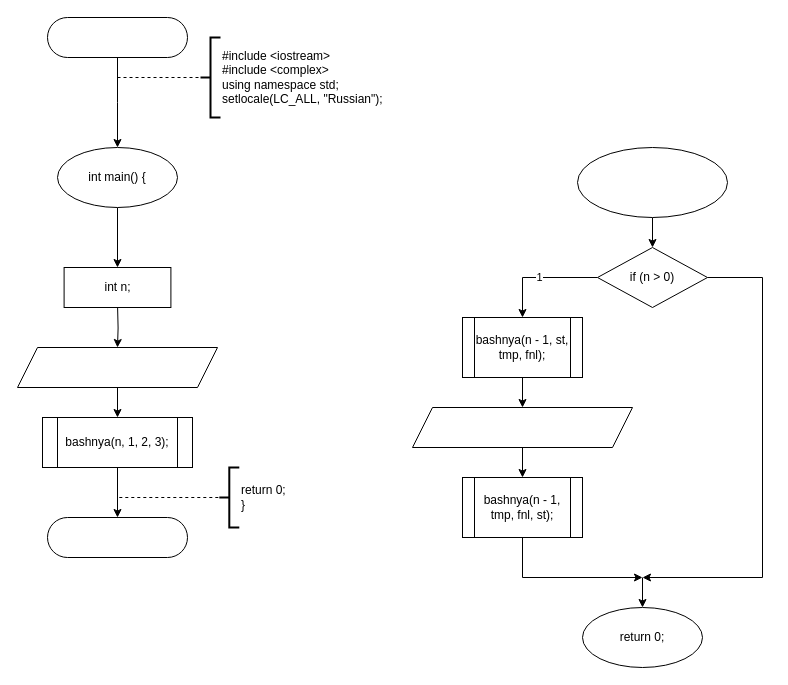
Some shapes in this 788 by 685 pixel diagram are drawn without their labels. The centre of each missing label's shape, as x and y in pixels:
cin >> n;: (x=117, y=367)
cout << st << " => " << fnl << endl;: (x=522, y=427)
void bashnya(int n, int st, int fnl, int tmp): (x=652, y=182)
Запуск: (x=117, y=37)
Конец: (x=117, y=537)
